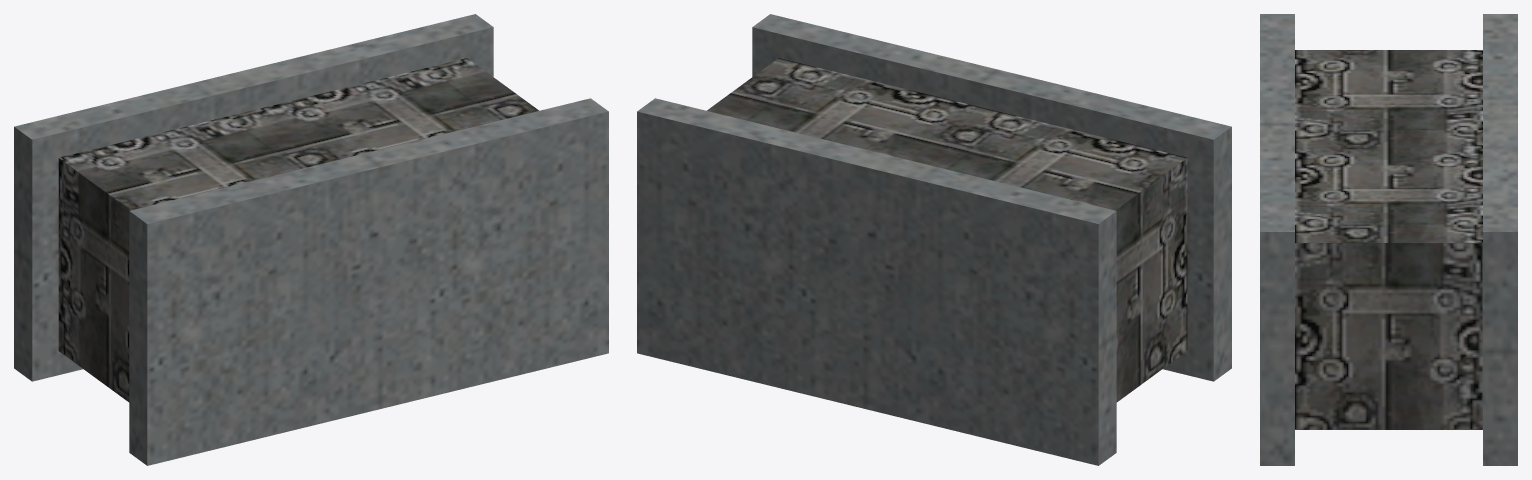
The model's file is eqp_comp_building_block.fbx.
The picture shows the model from 3 angles, left to right: view 1: azimuth 30°, elevation 25°; view 2: azimuth 150°, elevation 25°; view 3: azimuth 270°, elevation 25°; orthographic projection. The views are drawn at different scales.
Visible parts, largest first — view 1: mesh_node; view 2: mesh_node; view 3: mesh_node.
Boxes of the visible parts, x1=… form: mesh_node: x1=14, y1=14, x2=608, y2=465; mesh_node: x1=637, y1=14, x2=1231, y2=465; mesh_node: x1=1260, y1=14, x2=1517, y2=465.
Size of the model in its own units: 2 by 1 by 1.
